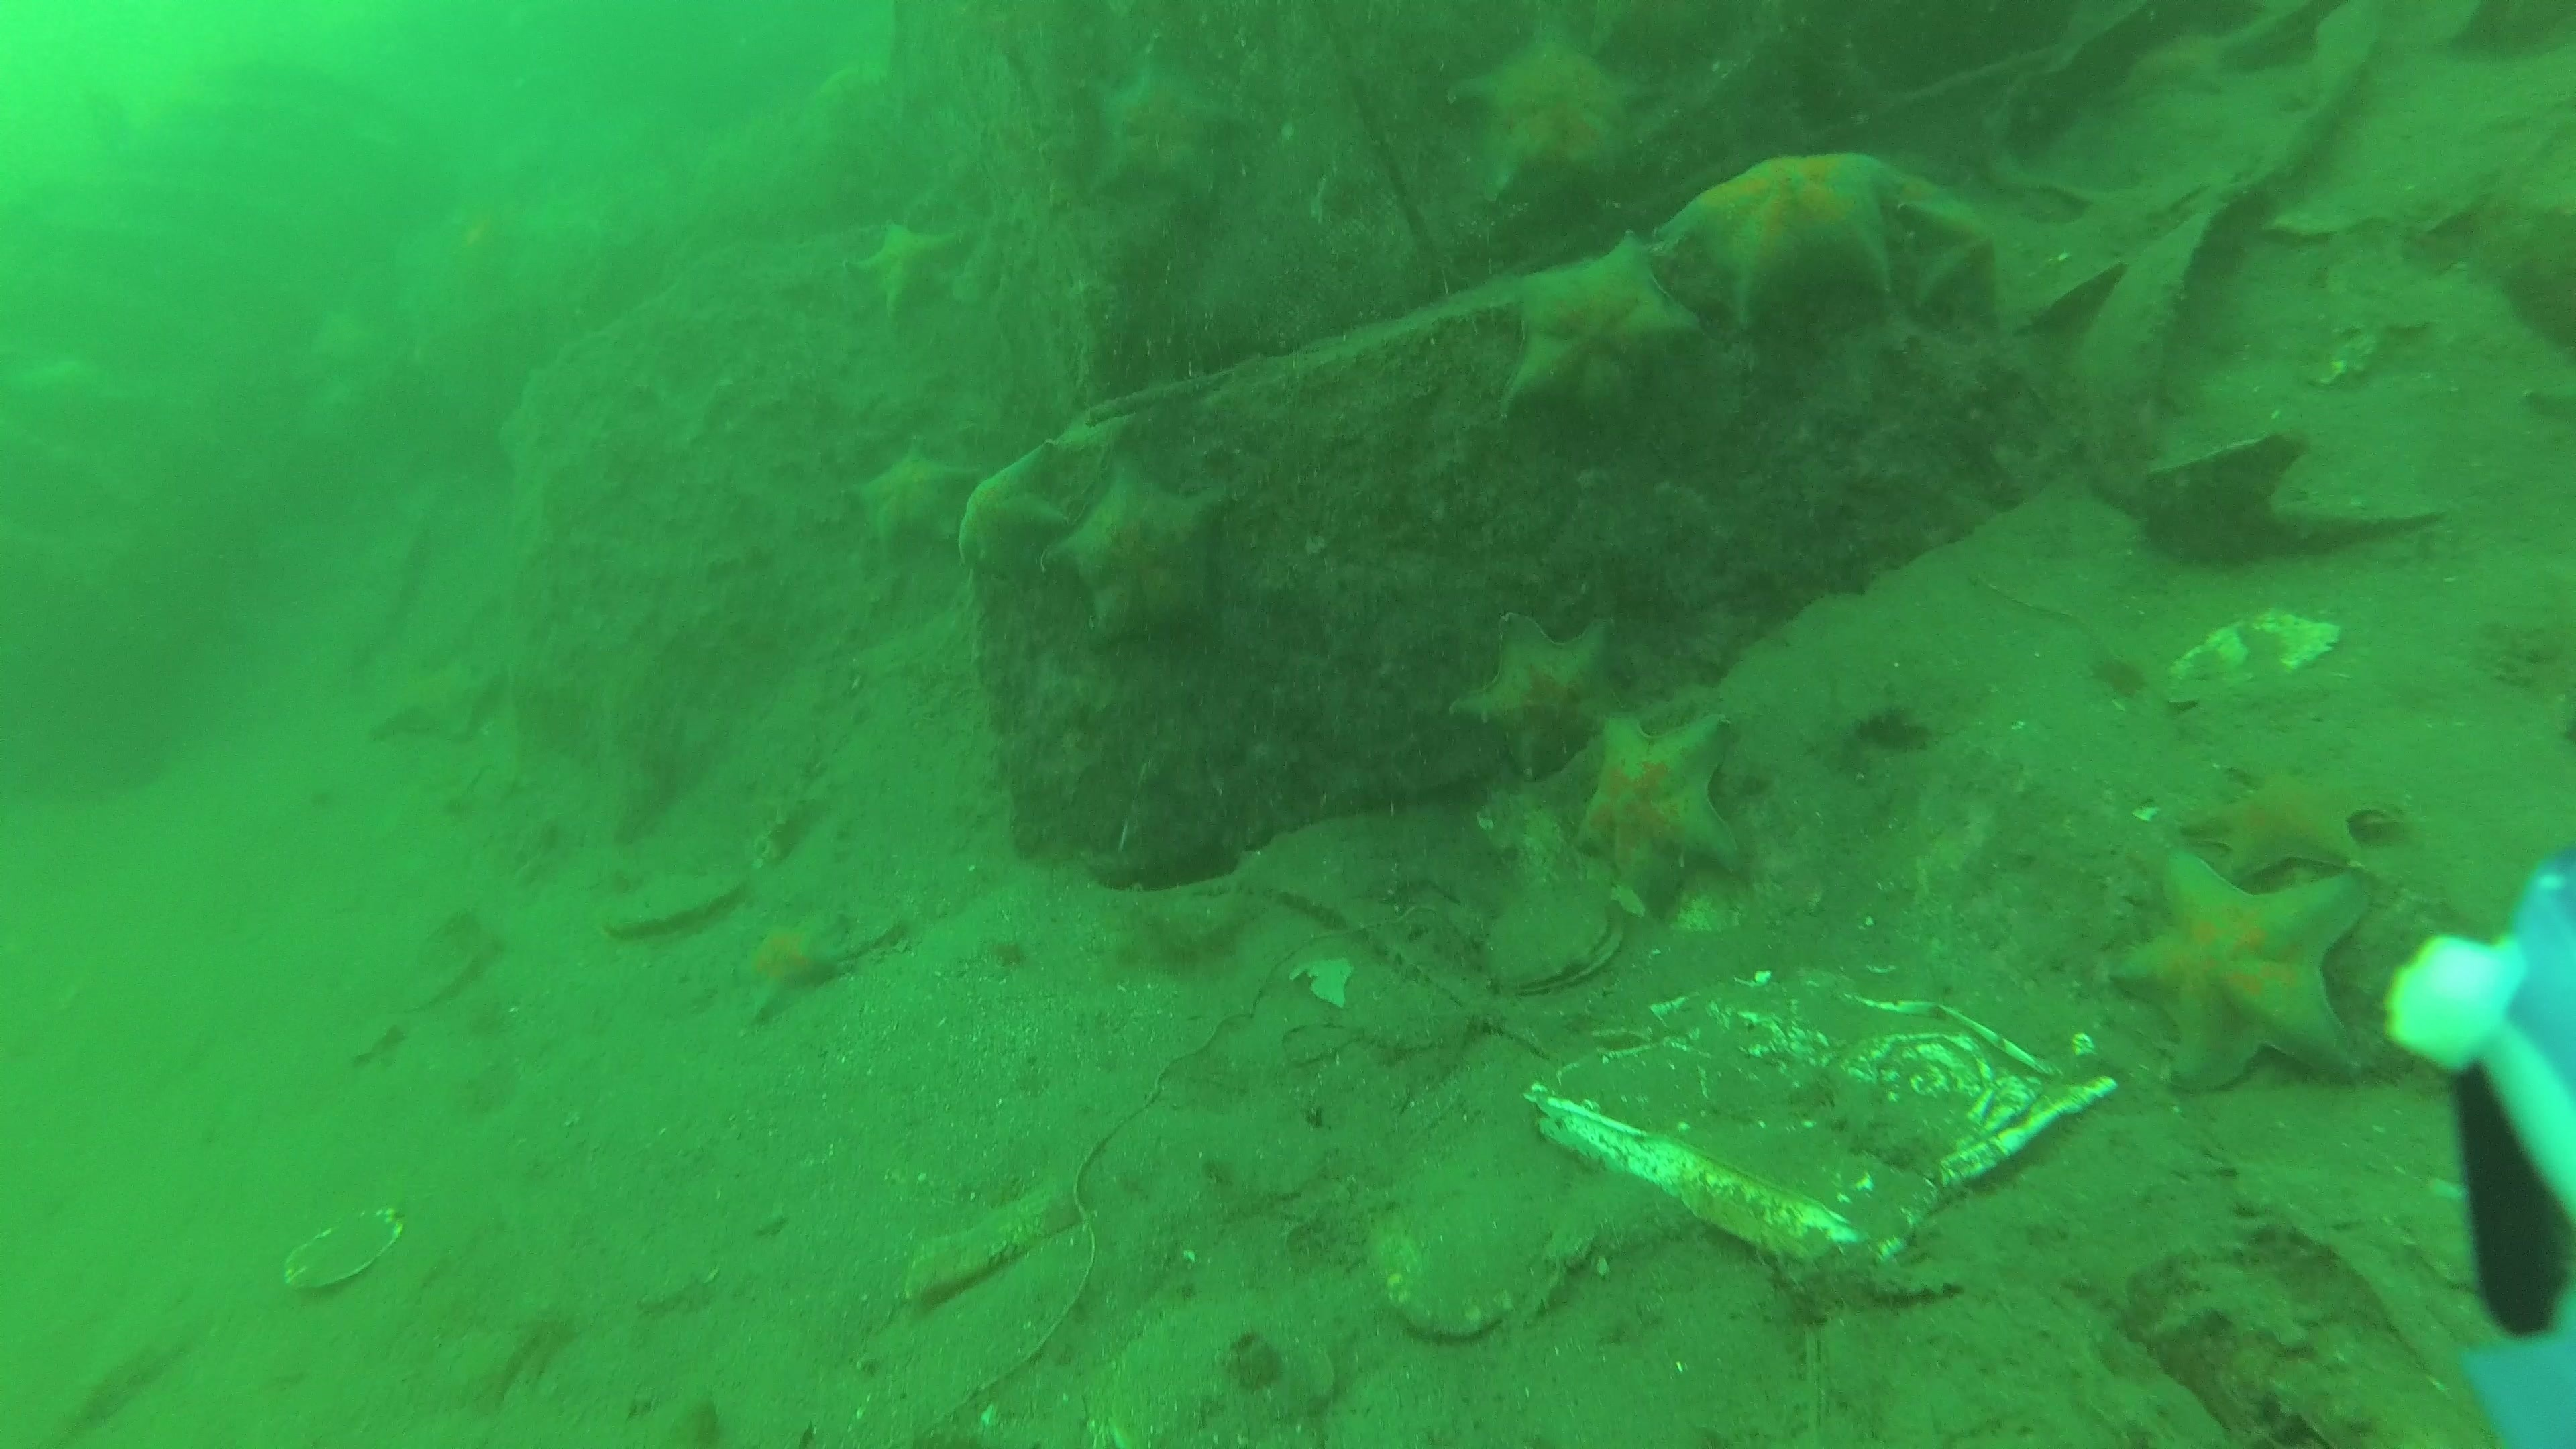scallop: (1479, 893, 1626, 998), (593, 862, 741, 941)
starfish: (2109, 855, 2380, 1097), (1654, 152, 1987, 327), (1502, 228, 1709, 421), (1454, 4, 1652, 202), (1569, 706, 1746, 909), (1049, 462, 1242, 644), (1451, 610, 1631, 787), (1076, 32, 1246, 203), (2180, 763, 2404, 888), (959, 439, 1067, 591), (849, 441, 977, 556), (722, 915, 860, 1019), (849, 219, 978, 327), (368, 651, 499, 747)
